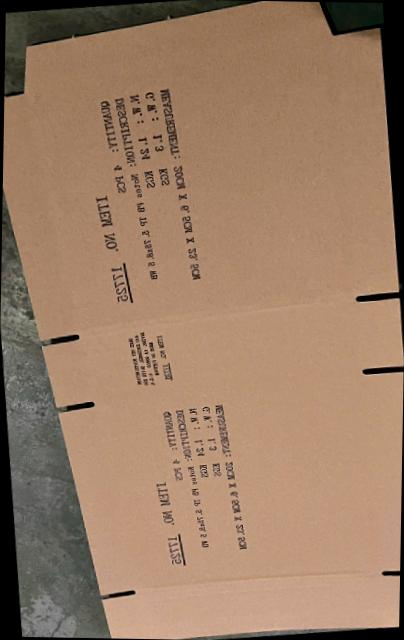box: (2, 1, 404, 639)
